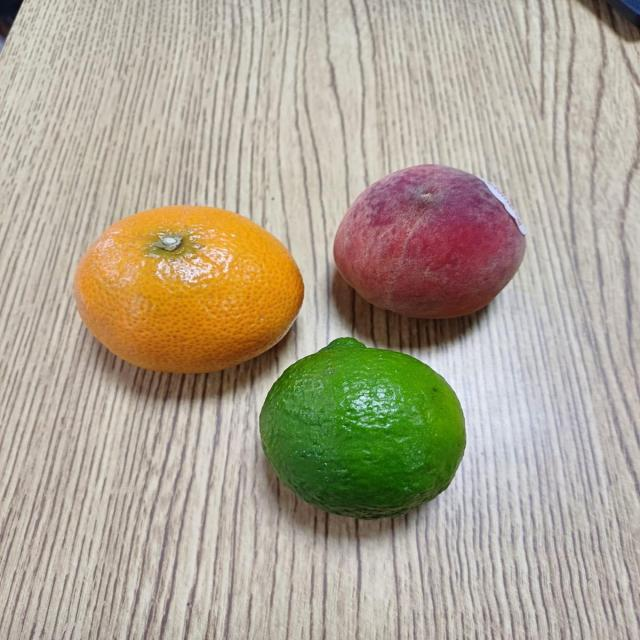Jeruk Mandarin: (70, 201, 310, 377)
Lemon: (260, 333, 473, 531)
Persik: (326, 156, 534, 331)
